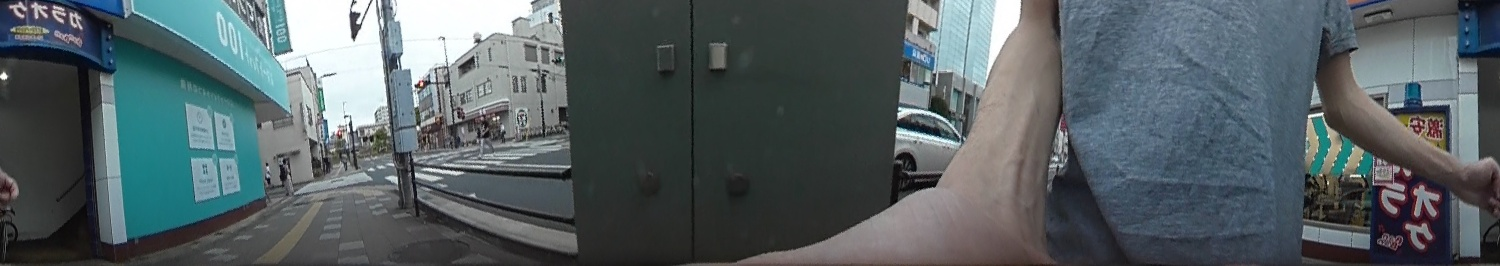difficult_person: (475, 112, 496, 158), (277, 158, 295, 194)
